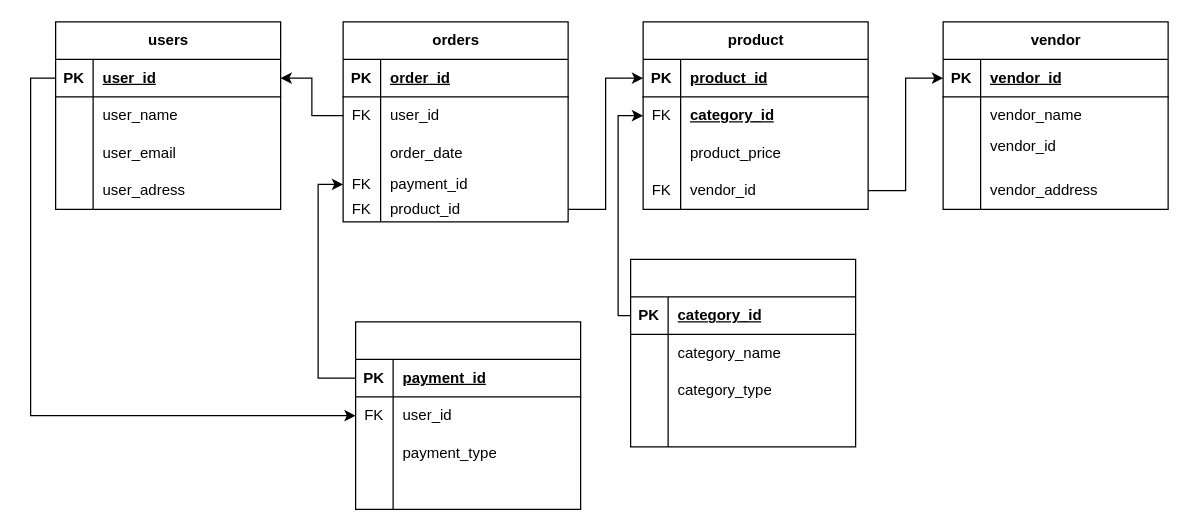
The diagram is 1190 pixels wide and 531 high, and some of its shapes have lost their labels. Here are the shapes that lost their labels. From the top down, the box of each, then its label:
(629, 258, 856, 447): categories
(354, 321, 581, 509): payments
